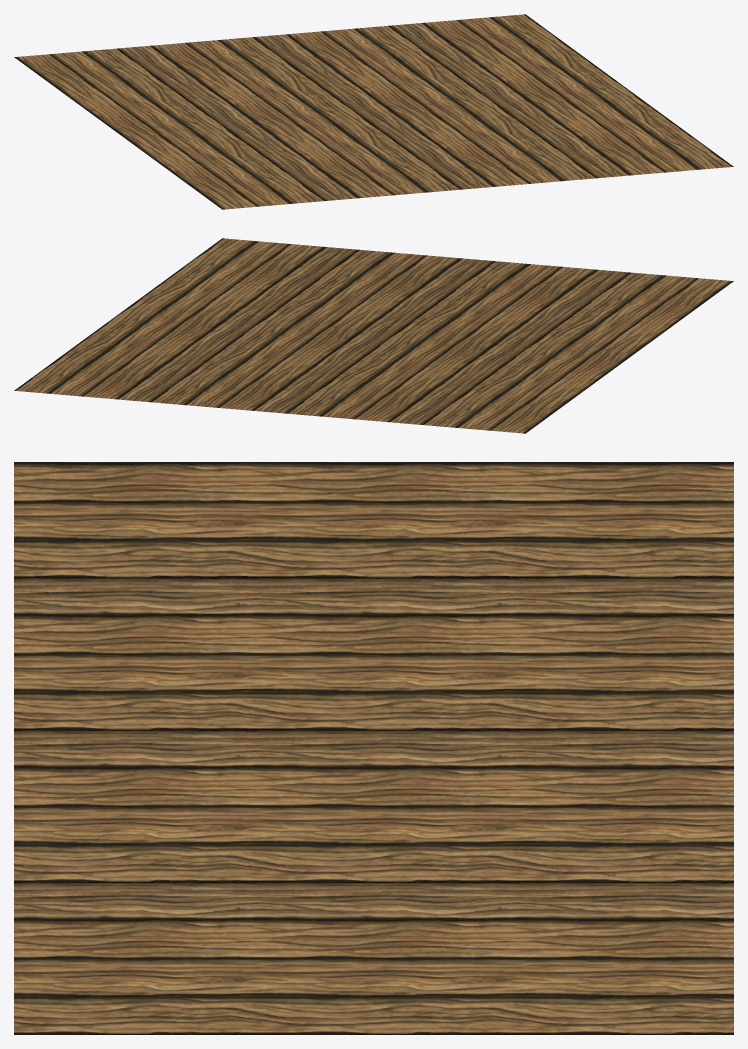
The model's file is LAKETOWN_EXTERIOR_PS_LT_PIER_WOOD09.fbx.
The picture shows the model from 3 angles, top to bottom: view 1: azimuth 30°, elevation 25°; view 2: azimuth 150°, elevation 25°; view 3: azimuth 270°, elevation 25°; orthographic projection. The views are drawn at different scales.
Parts seen in each view (by area): view 1: LAKETOWN_EXTERIOR_PS_LT_PIER_WOOD09; view 2: LAKETOWN_EXTERIOR_PS_LT_PIER_WOOD09; view 3: LAKETOWN_EXTERIOR_PS_LT_PIER_WOOD09.
Boxes of the visible parts, x1,y1,x2,y2 form: LAKETOWN_EXTERIOR_PS_LT_PIER_WOOD09: [14, 14, 733, 209]; LAKETOWN_EXTERIOR_PS_LT_PIER_WOOD09: [14, 238, 733, 433]; LAKETOWN_EXTERIOR_PS_LT_PIER_WOOD09: [14, 462, 733, 1034].
Bounding box in the file's own units: 94993 × 14539 × 67010.
Materials: 1 (1 with a texture image).
